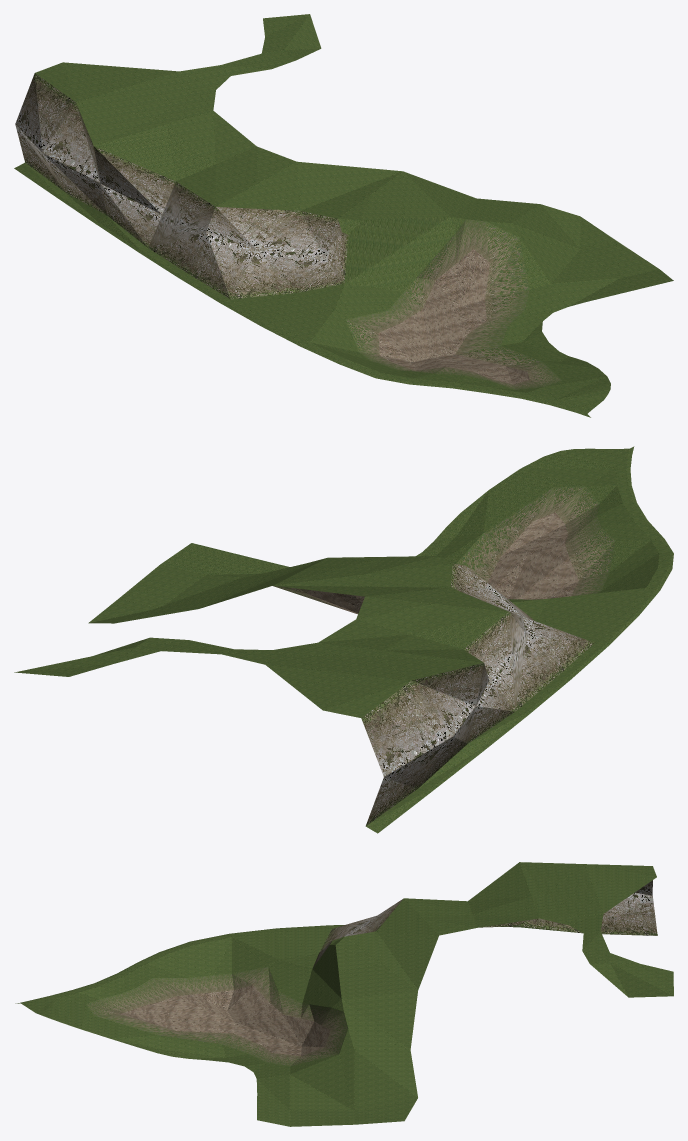
File: lodcuntw26.obj
The picture shows the model from 3 angles, top to bottom: view 1: azimuth 30°, elevation 25°; view 2: azimuth 150°, elevation 25°; view 3: azimuth 270°, elevation 25°; orthographic projection. The views are drawn at different scales.
Parts seen in each view (by area): view 1: lodcuntw26; view 2: lodcuntw26; view 3: lodcuntw26.
Boxes of the visible parts, bbox=[...] form: lodcuntw26: bbox=[14, 14, 673, 417]; lodcuntw26: bbox=[14, 446, 673, 833]; lodcuntw26: bbox=[15, 862, 673, 1126].
Size of the model in its own units: 199 by 57.75 by 325.
4 materials, 4 textured.
